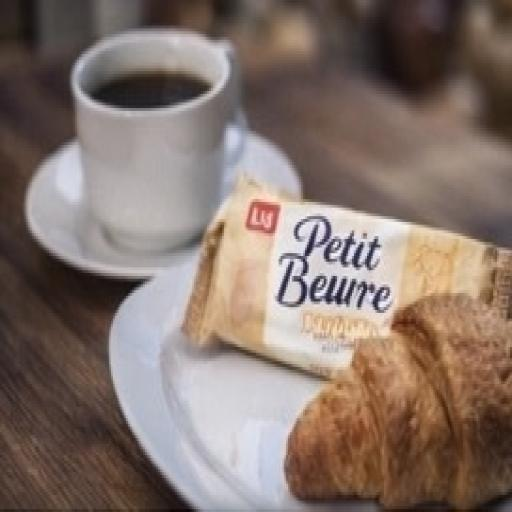petit_beurre: (180, 113, 506, 412)
